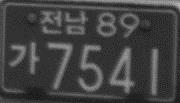1: (147, 45, 160, 97)
4: (108, 46, 136, 95)
5: (77, 43, 104, 94)
7: (45, 41, 74, 91)
8: (96, 11, 117, 38)
9: (119, 12, 139, 38)
가: (8, 41, 40, 75)
전남_O: (39, 8, 88, 36)
